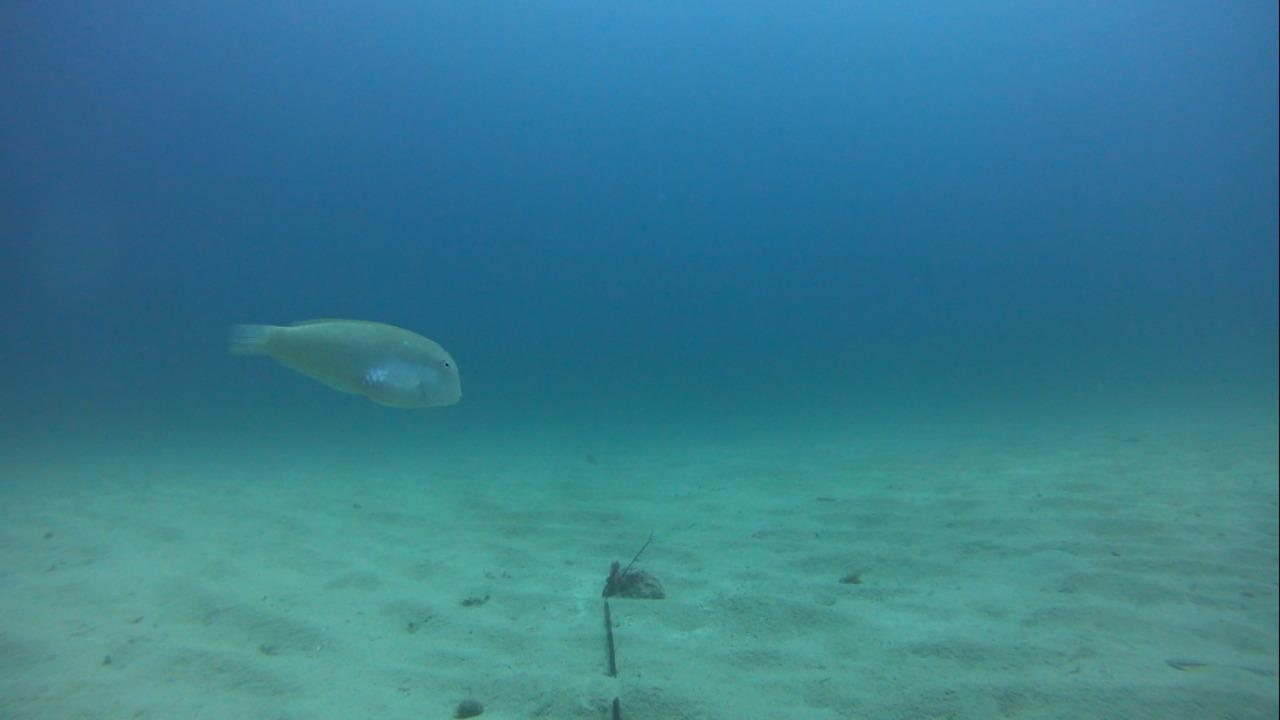raor: (220, 315, 468, 414)
